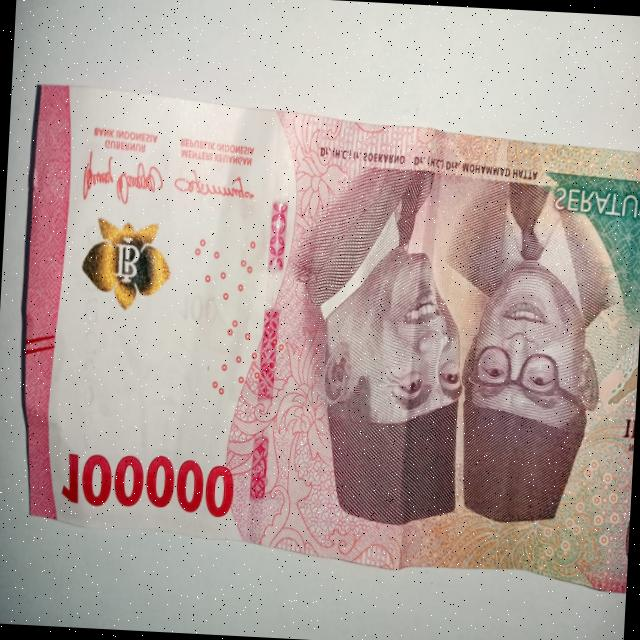100K: (3, 78, 640, 602)
